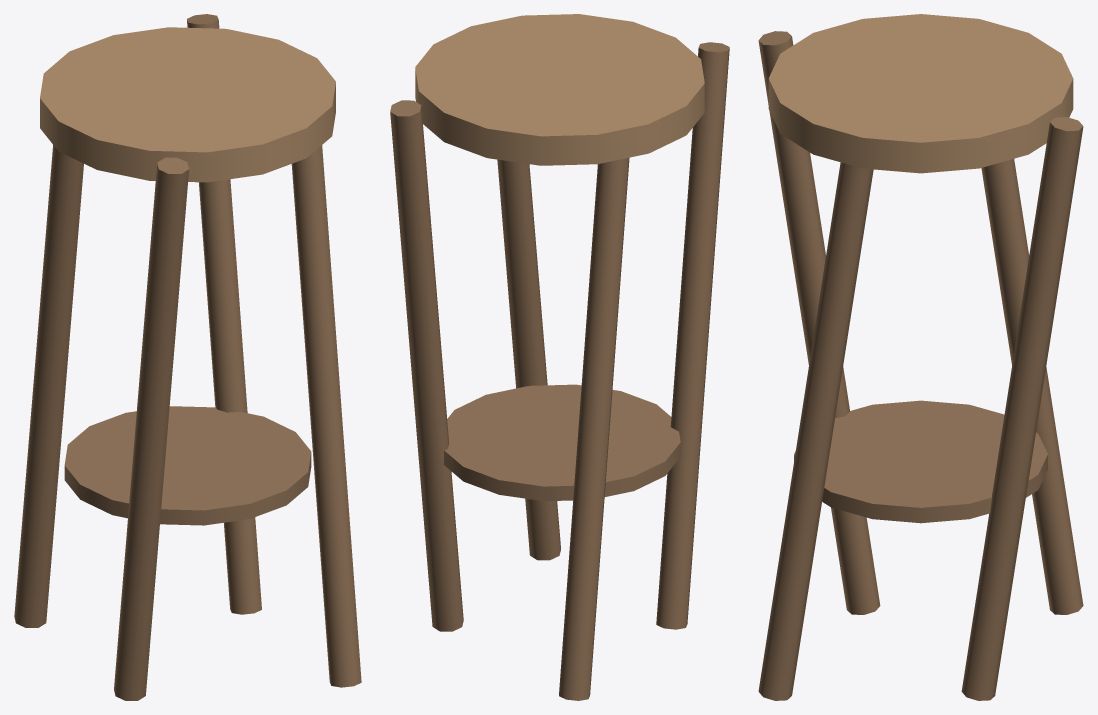
The model's file is stool.glb.
3 renders of one model, left to right at view 1: azimuth 30°, elevation 25°; view 2: azimuth 150°, elevation 25°; view 3: azimuth 270°, elevation 25°, orthographic. The views are drawn at different scales.
Visible parts, largest first — view 1: seat, foot_ring, leg_fl, leg_fr, leg_bl, leg_br; view 2: seat, foot_ring, leg_fl, leg_bl, leg_br, leg_fr; view 3: seat, leg_br, foot_ring, leg_fr, leg_bl, leg_fl.
Part boxes in pixels (x1=…): seat: x1=40, y1=27, x2=335, y2=182; foot_ring: x1=64, y1=406, x2=311, y2=525; leg_fl: x1=114, y1=157, x2=188, y2=700; leg_fr: x1=291, y1=145, x2=361, y2=687; leg_bl: x1=14, y1=145, x2=83, y2=627; leg_br: x1=187, y1=14, x2=261, y2=614; seat: x1=415, y1=14, x2=704, y2=165; foot_ring: x1=443, y1=384, x2=680, y2=501; leg_fl: x1=656, y1=42, x2=729, y2=629; leg_bl: x1=559, y1=157, x2=629, y2=700; leg_br: x1=390, y1=100, x2=463, y2=631; leg_fr: x1=497, y1=159, x2=560, y2=560; seat: x1=768, y1=14, x2=1073, y2=173; leg_br: x1=961, y1=117, x2=1083, y2=700; foot_ring: x1=794, y1=400, x2=1047, y2=523; leg_fr: x1=758, y1=162, x2=873, y2=700; leg_bl: x1=981, y1=159, x2=1083, y2=614; leg_fl: x1=758, y1=31, x2=880, y2=614.
Size of the model in its own units: 0.36 by 0.7491 by 0.384.
